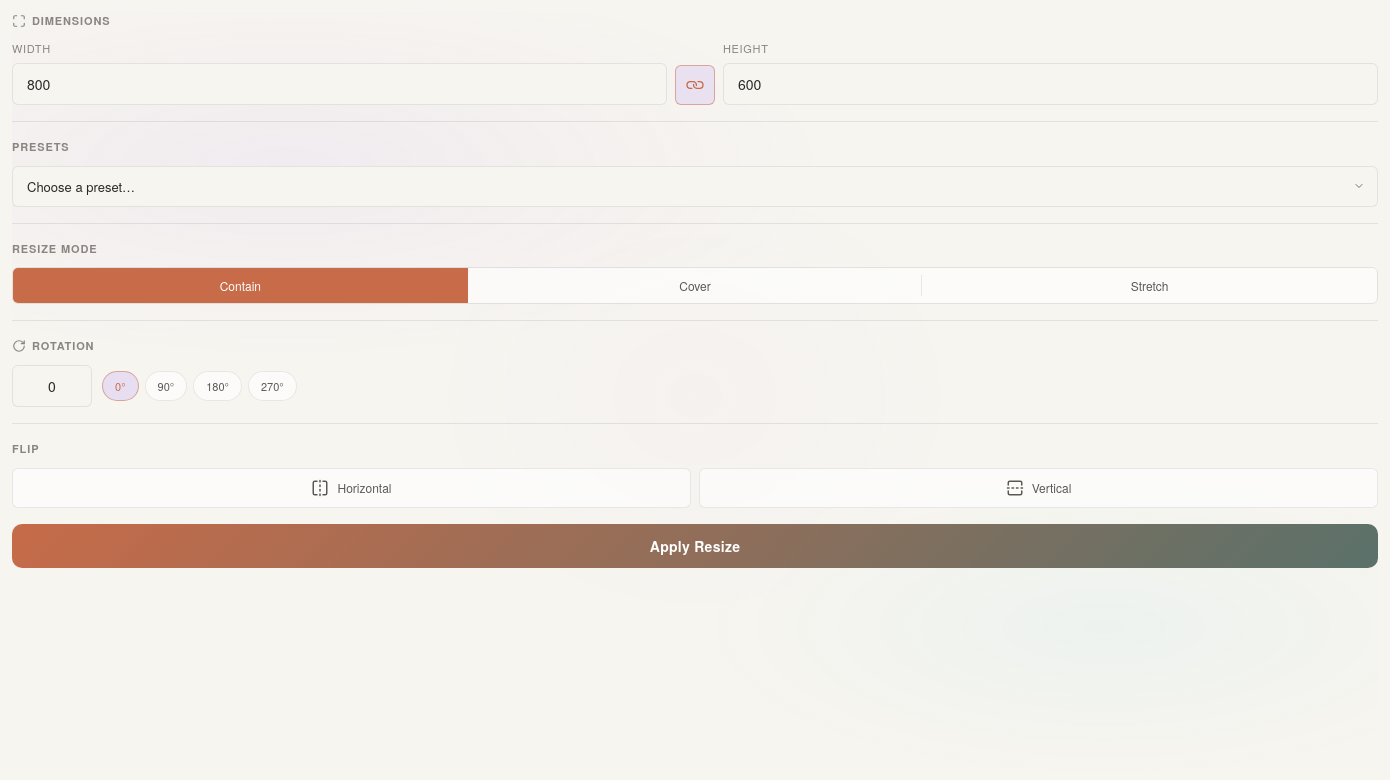
it: ResizePanel Component › updates width and height when a preset is chosen
Preset index 2 is HD (1280×720)
Select "HD (1280×720)" in the dropdown at (695, 186), box [12,166,1378,207]
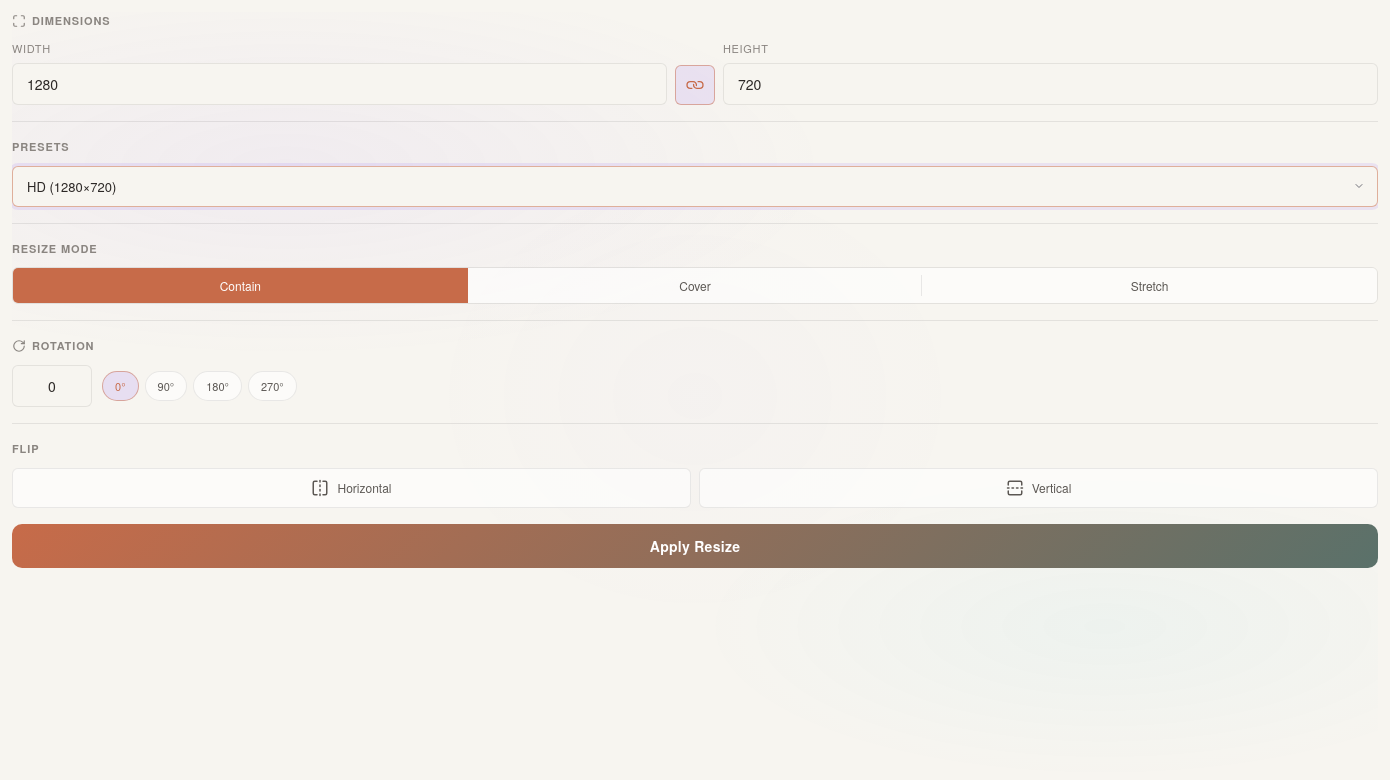
expect the number field with class "resize-panel__input" holds "1280": met, box [12,63,667,105]
expect the number field with class "resize-panel__input" holds "720": met, box [723,63,1378,105]
